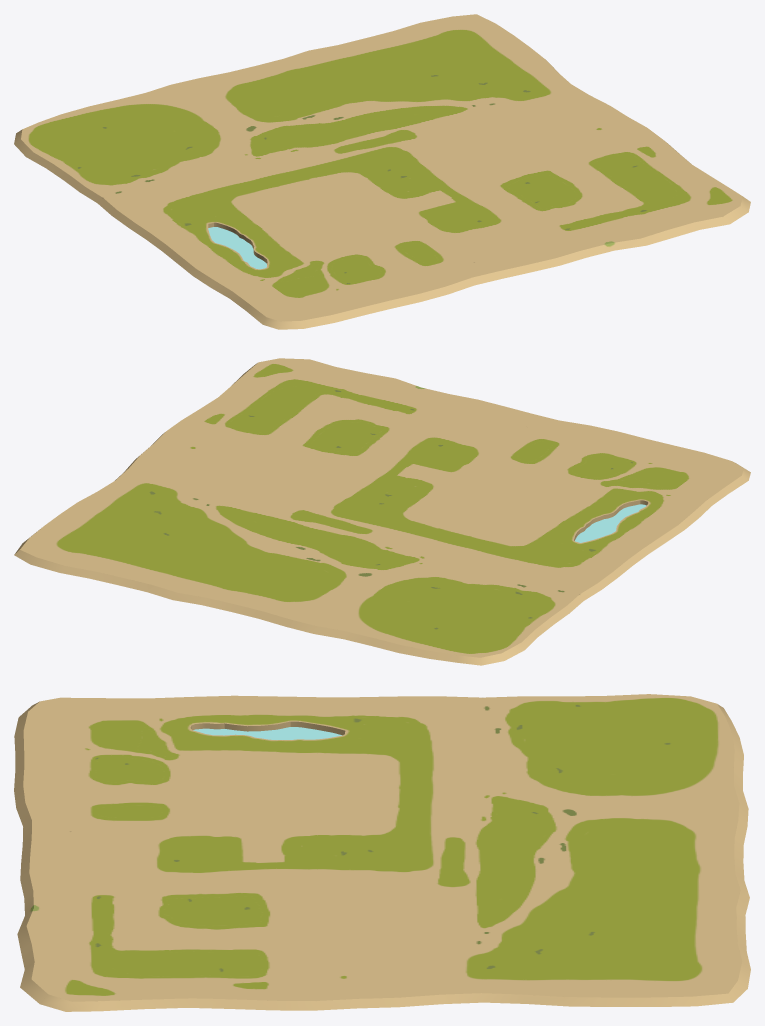
File: Main Ground.fbx
3 views of the same model, one above another, from view 1: azimuth 30°, elevation 25°; view 2: azimuth 150°, elevation 25°; view 3: azimuth 270°, elevation 25° (orthographic). The views are drawn at different scales.
Parts seen in each view (by area): view 1: Main Tile Ground; view 2: Main Tile Ground; view 3: Main Tile Ground.
Part boxes in pixels (x1,y1,x2,y2): Main Tile Ground: (14,14,750,329); Main Tile Ground: (14,358,750,665); Main Tile Ground: (14,694,750,1011).
Size of the model in its own units: 5.8 by 0.0566 by 5.74.
